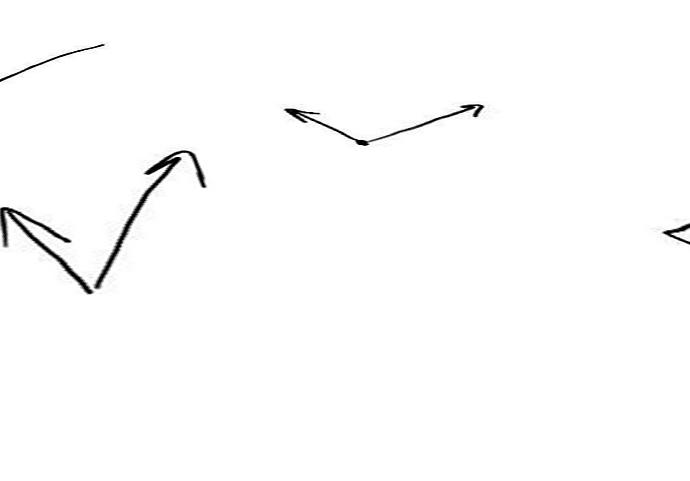arrow: (96, 148, 207, 291), (1, 204, 94, 294), (365, 101, 484, 145), (283, 107, 359, 146)
arrownohead: (3, 42, 105, 82)
